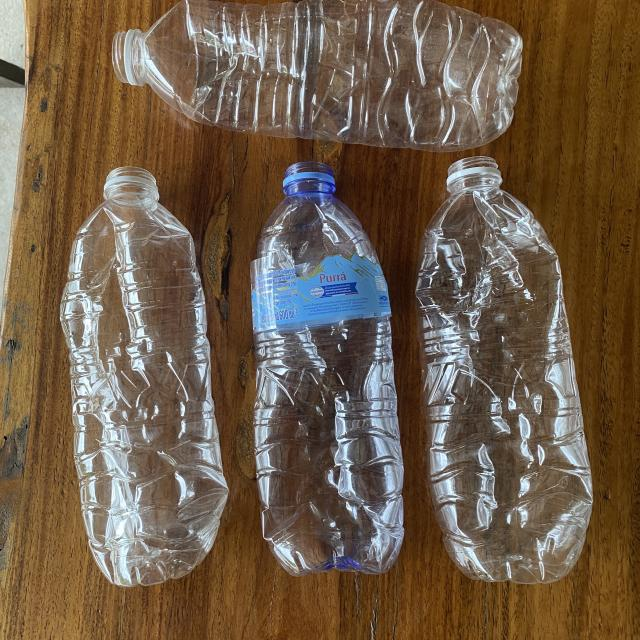plastik: (416, 158, 592, 584), (60, 168, 228, 586), (251, 162, 404, 575), (112, 0, 522, 151)
